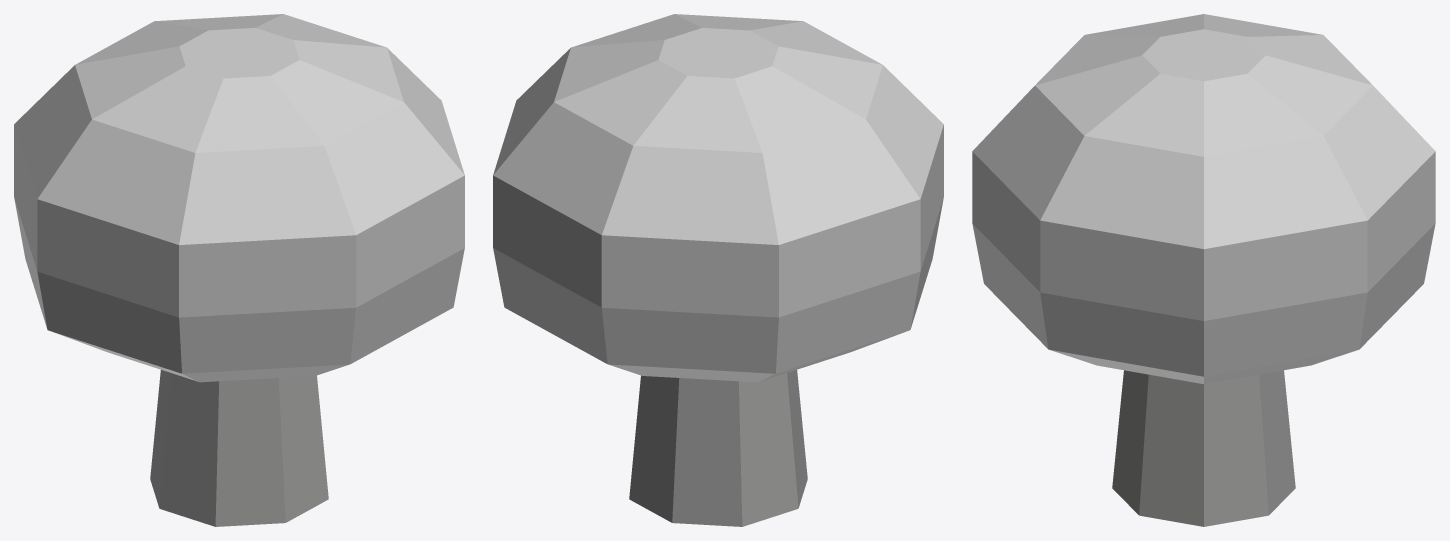
File: mushroom04.obj
The picture shows the model from 3 angles, left to right: view 1: azimuth 30°, elevation 25°; view 2: azimuth 150°, elevation 25°; view 3: azimuth 270°, elevation 25°; orthographic projection.
Visible parts, largest first — view 1: Cylinder; view 2: Cylinder; view 3: Cylinder.
Boxes of the visible parts, x1,y1,x2,y2 form: Cylinder: (14, 14, 464, 526); Cylinder: (493, 14, 943, 526); Cylinder: (972, 14, 1435, 526).
Bounding box in the file's own units: 0.0346 × 0.0356 × 0.0346.
Materials: 1 (1 with a texture image).
